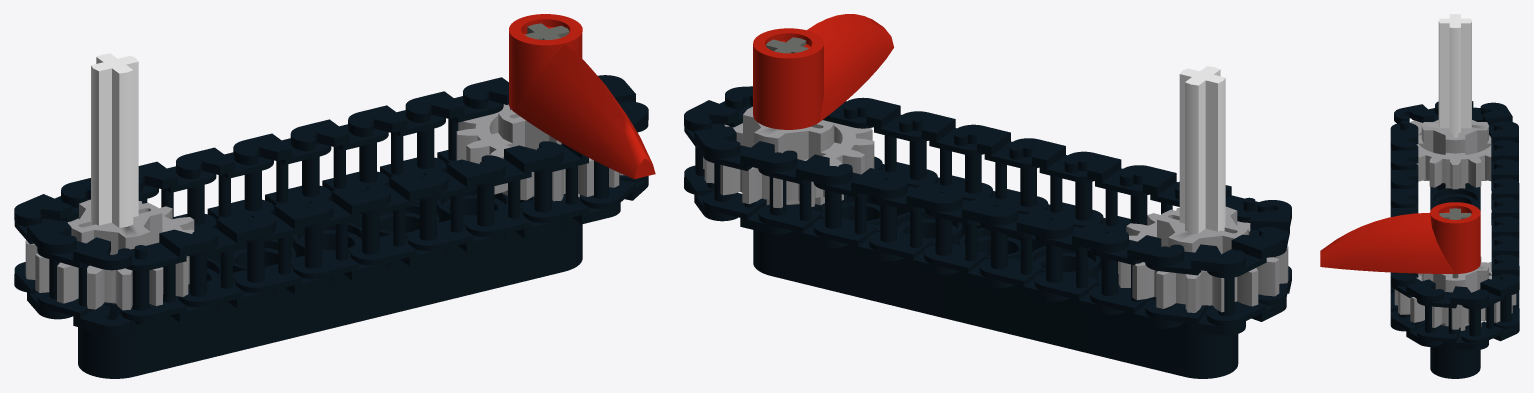
The model's file is chains.glb.
3 views of the same model, side by side, from view 1: azimuth 30°, elevation 25°; view 2: azimuth 150°, elevation 25°; view 3: azimuth 270°, elevation 25° (orthographic). The views are drawn at different scales.
Visible parts, largest first — view 1: 32524.dat, 65249.dat, 87083.dat, 3711.dat, 3711.dat.006, 3711.dat.003, 3711.dat.005, 3711.dat.004, 3711.dat.002, 3711.dat.001, 3711.dat.021, 3711.dat.013 (+12 smaller); view 2: 32524.dat, 65249.dat, 87083.dat, 3711.dat.015, 3711.dat.016, 3711.dat.013, 3711.dat.017, 3711.dat.014, 3711.dat.012, 3711.dat.018, 3711.dat.011, 3711.dat.003 (+12 smaller); view 3: 65249.dat, 87083.dat, 32524.dat, 3711.dat.009, 3711.dat.010, 3711.dat.008, 3711.dat.011, 3711.dat, 3711.dat.012, 3711.dat.021, 3711.dat.019, 3711.dat.001 (+11 smaller).
Boxes of the visible parts, x1,y1,x2,y2 form: 32524.dat: (78, 185, 582, 378); 65249.dat: (456, 14, 655, 201); 87083.dat: (25, 53, 194, 310); 3711.dat: (120, 225, 218, 324); 3711.dat.006: (465, 141, 563, 238); 3711.dat.003: (292, 183, 390, 280); 3711.dat.005: (407, 155, 505, 252); 3711.dat.004: (350, 169, 448, 266); 3711.dat.002: (235, 197, 333, 294); 3711.dat.001: (178, 211, 275, 308); 3711.dat.021: (37, 233, 132, 335); 3711.dat.013: (348, 103, 445, 186); 32524.dat: (753, 195, 1238, 378); 65249.dat: (703, 14, 893, 208); 87083.dat: (1118, 66, 1288, 312); 3711.dat.015: (924, 192, 1018, 288); 3711.dat.016: (979, 206, 1073, 301); 3711.dat.013: (813, 166, 907, 261); 3711.dat.017: (1034, 219, 1128, 315); 3711.dat.014: (869, 179, 962, 274); 3711.dat.012: (758, 152, 852, 247); 3711.dat.018: (1090, 233, 1184, 328); 3711.dat.011: (703, 139, 797, 234); 3711.dat.003: (1009, 138, 1103, 228); 65249.dat: (1320, 202, 1516, 330); 87083.dat: (1410, 14, 1491, 189); 32524.dat: (1430, 183, 1480, 378); 3711.dat.009: (1417, 286, 1488, 350); 3711.dat.010: (1461, 274, 1519, 343); 3711.dat.008: (1391, 273, 1444, 346); 3711.dat.011: (1491, 254, 1519, 329); 3711.dat: (1390, 120, 1418, 150); 3711.dat.012: (1491, 235, 1519, 308); 3711.dat.021: (1394, 104, 1438, 124); 3711.dat.019: (1480, 102, 1512, 137); 3711.dat.001: (1390, 139, 1418, 184).
Bounding box in the file's own units: 1.68 × 0.798 × 0.7059.
